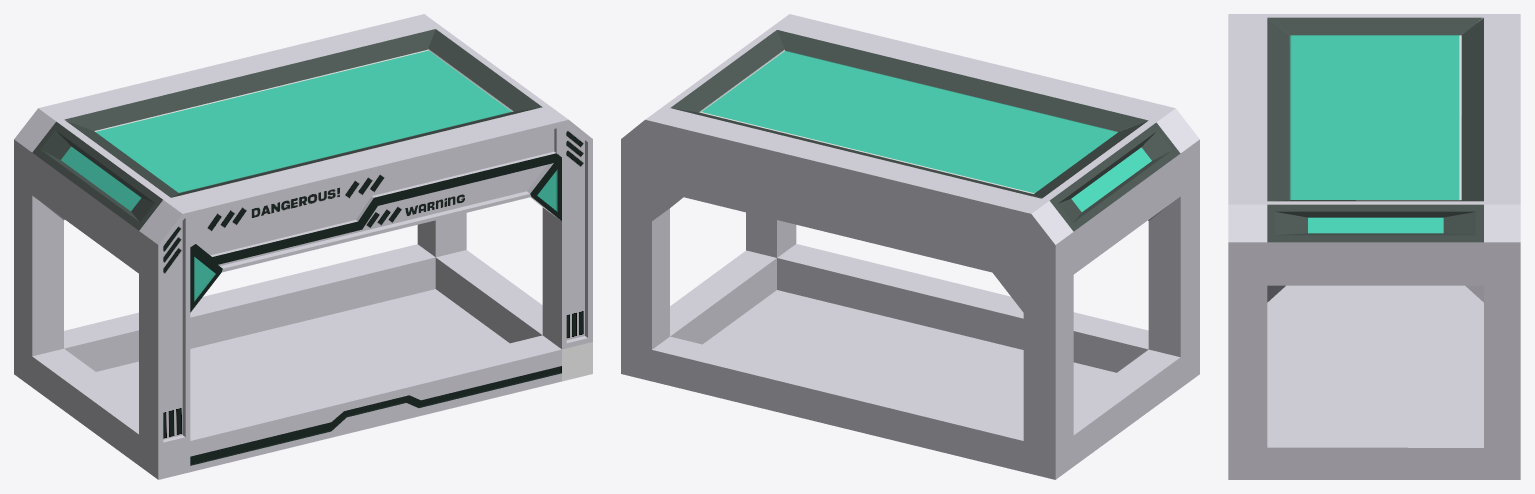
File: KandangDungeon.fbx
The picture shows the model from 3 angles, left to right: view 1: azimuth 30°, elevation 25°; view 2: azimuth 150°, elevation 25°; view 3: azimuth 270°, elevation 25°; orthographic projection.
Visible parts, largest first — view 1: TheRealKandang; view 2: TheRealKandang; view 3: TheRealKandang.
Boxes of the visible parts, x1=… form: TheRealKandang: x1=14, y1=14, x2=592, y2=479; TheRealKandang: x1=621, y1=14, x2=1199, y2=479; TheRealKandang: x1=1228, y1=14, x2=1520, y2=479.
Size of the model in its own units: 140 by 80.08 by 80.58.
